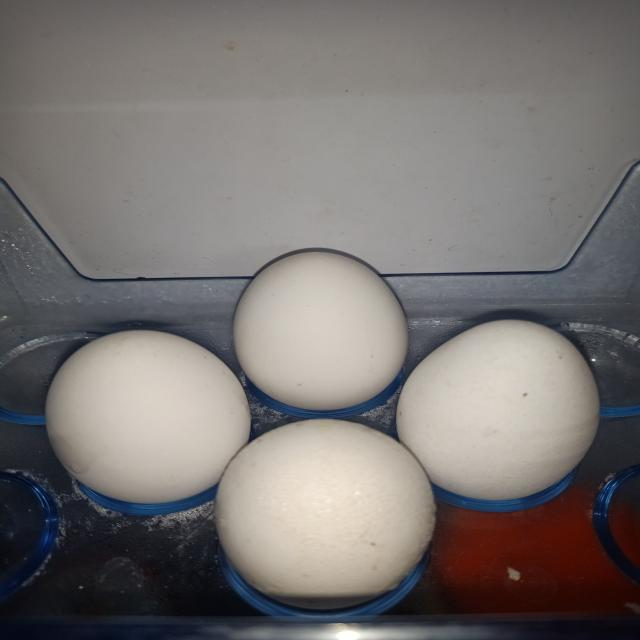Egg: (215, 420, 435, 610), (397, 320, 600, 501), (44, 330, 250, 504), (233, 252, 408, 411)
